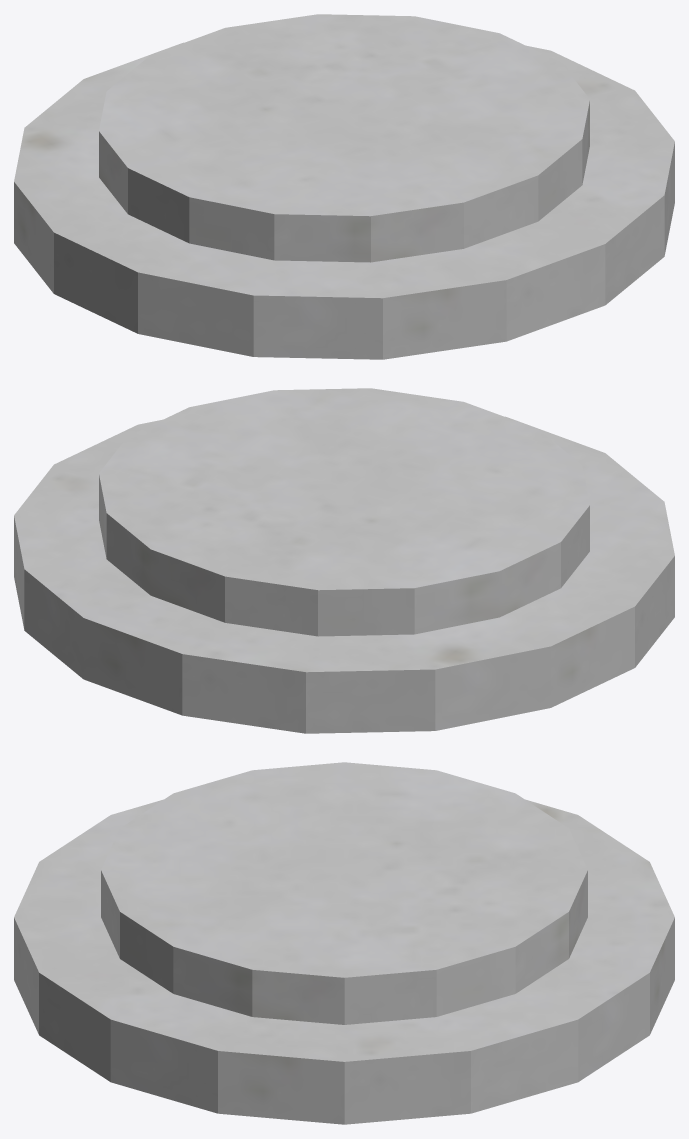
File: SM_反应釜垫片01.fbx
3 renders of one model, top to bottom at view 1: azimuth 30°, elevation 25°; view 2: azimuth 150°, elevation 25°; view 3: azimuth 270°, elevation 25°, orthographic. The views are drawn at different scales.
Visible parts, largest first — view 1: SM_反应釜垫片01; view 2: SM_反应釜垫片01; view 3: SM_反应釜垫片01.
Boxes of the visible parts, left/top/right/bottom form: SM_反应釜垫片01: left=14, top=14, right=674, bottom=359; SM_反应釜垫片01: left=14, top=388, right=674, bottom=733; SM_反应釜垫片01: left=14, top=762, right=674, bottom=1124.
Size of the model in its own units: 0.0801 by 0.0142 by 0.0773.
